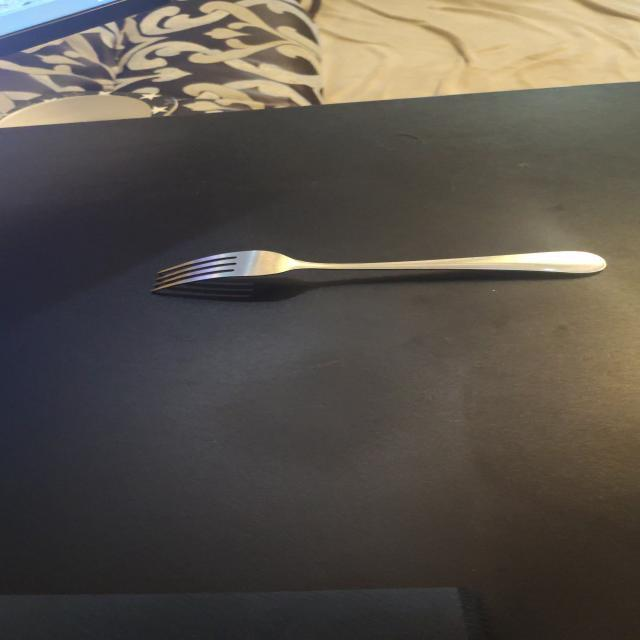plastic utensil: (151, 250, 607, 292)
